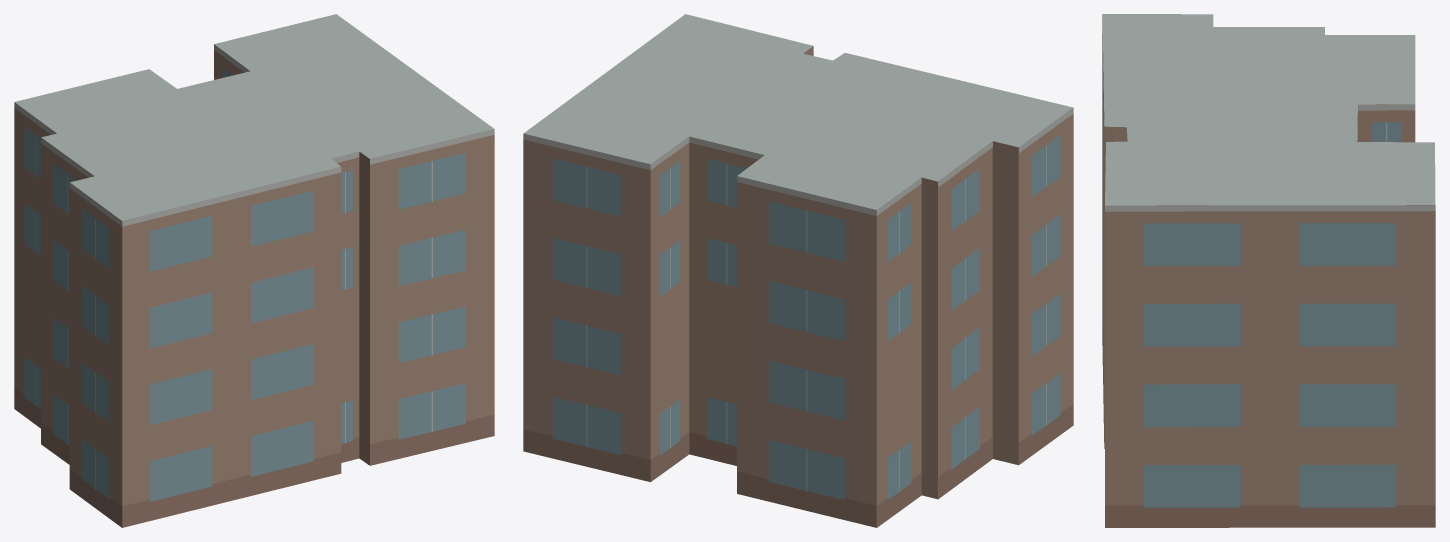
The model's file is survey-upis-32813364.glb.
3 renders of one model, left to right at view 1: azimuth 30°, elevation 25°; view 2: azimuth 150°, elevation 25°; view 3: azimuth 270°, elevation 25°, orthographic. The views are drawn at different scales.
Visible parts, largest first — view 1: survey-upis-32813364.tmp; view 2: survey-upis-32813364.tmp; view 3: survey-upis-32813364.tmp.
Boxes of the visible parts, <box> form: survey-upis-32813364.tmp: <box>14,14,494,527</box>; survey-upis-32813364.tmp: <box>523,14,1073,527</box>; survey-upis-32813364.tmp: <box>1102,14,1435,527</box>.
Bounding box in the file's own units: 16.54 × 12.97 × 12.15.
